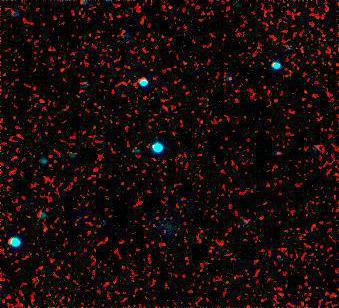star: (30, 215, 60, 245)
